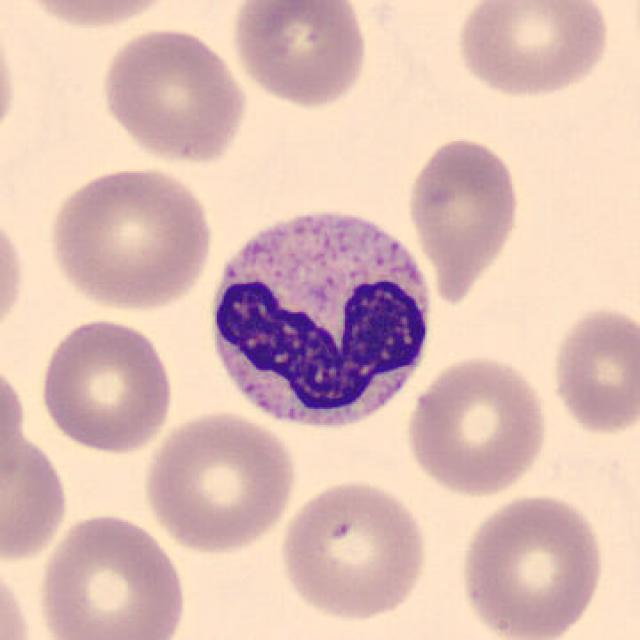Neutrophil: (197, 194, 441, 441), (197, 194, 439, 441)
RBC: (42, 162, 218, 312), (138, 408, 300, 556), (455, 490, 610, 640), (276, 476, 432, 624), (96, 23, 251, 166), (402, 351, 551, 499), (403, 132, 522, 305), (33, 509, 190, 640), (36, 314, 178, 455), (451, 0, 615, 100), (228, 0, 372, 111), (548, 301, 638, 439), (0, 414, 73, 566), (11, 0, 185, 32), (0, 204, 30, 351), (0, 352, 28, 497), (0, 9, 23, 157), (0, 555, 37, 639)
